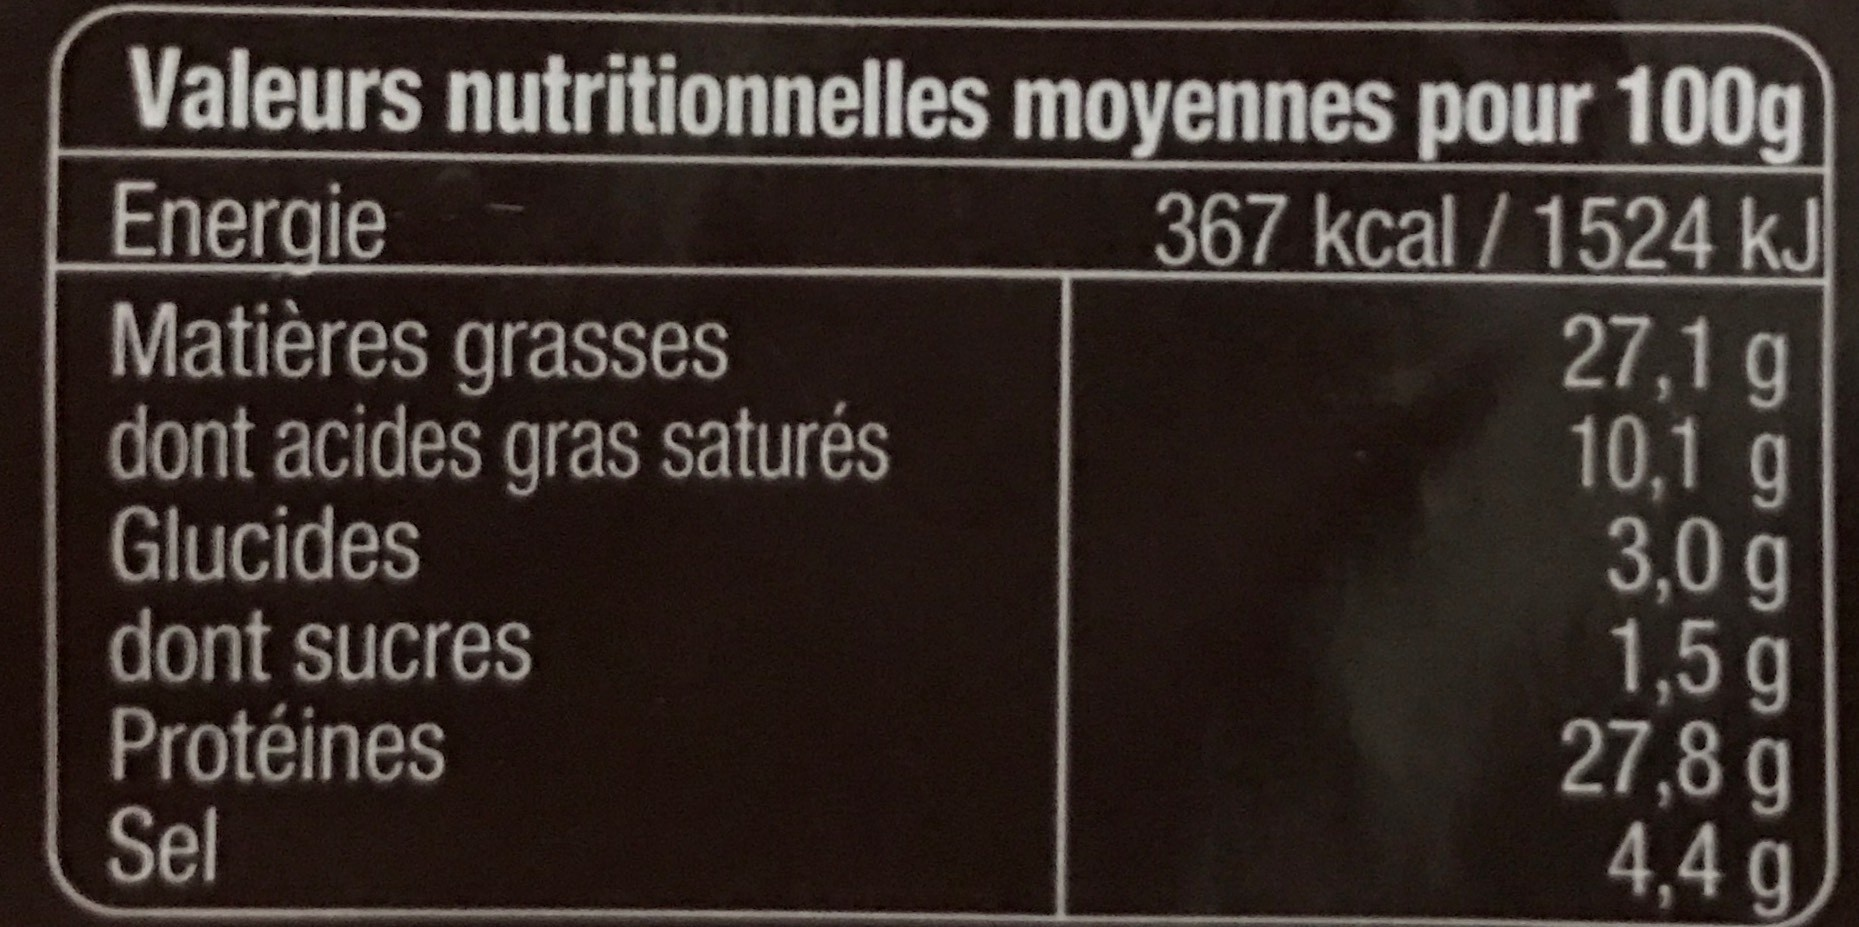column: (104, 178, 893, 915), (1155, 191, 1836, 923)
table: (52, 1, 1836, 927)
